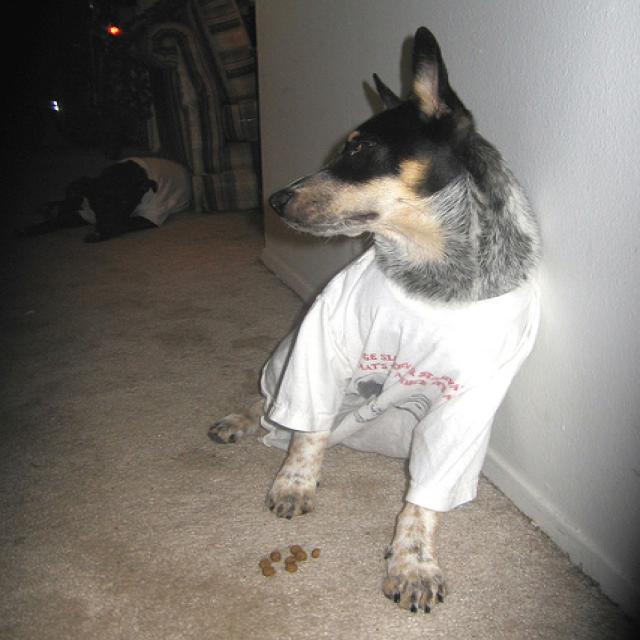Dog: (192, 55, 598, 612)
